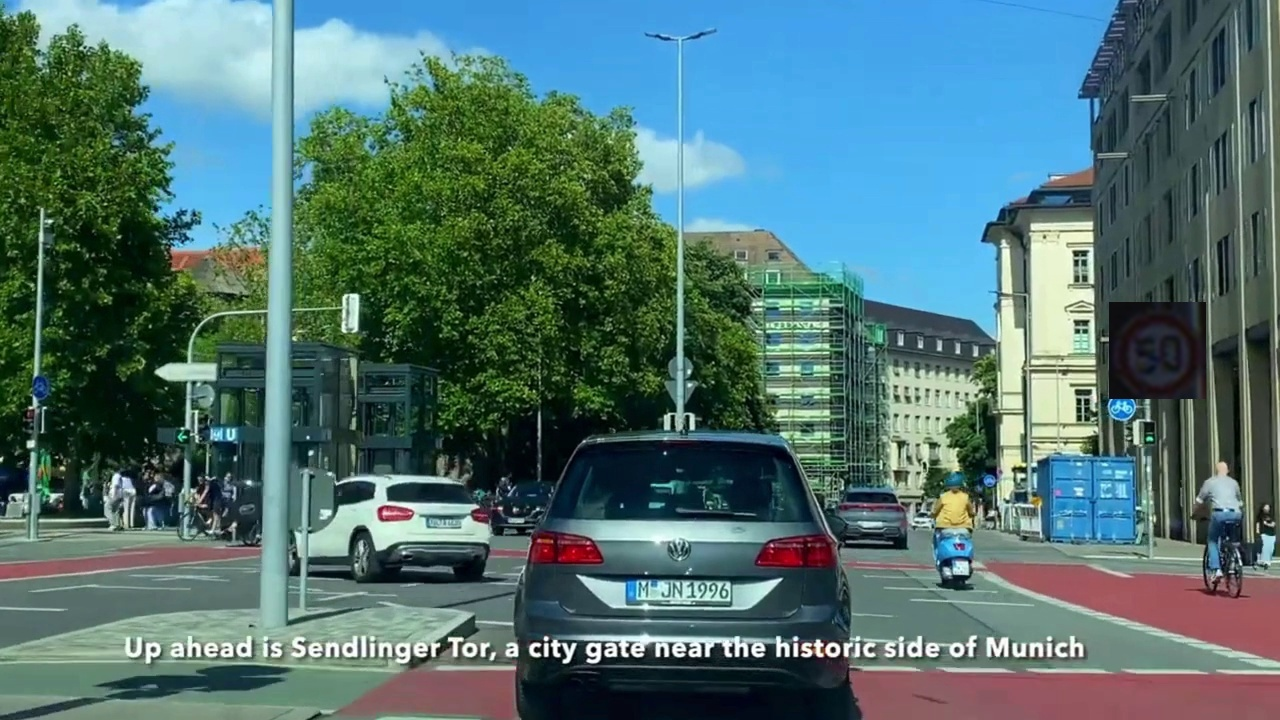Speed 50: (1109, 302, 1206, 399)
